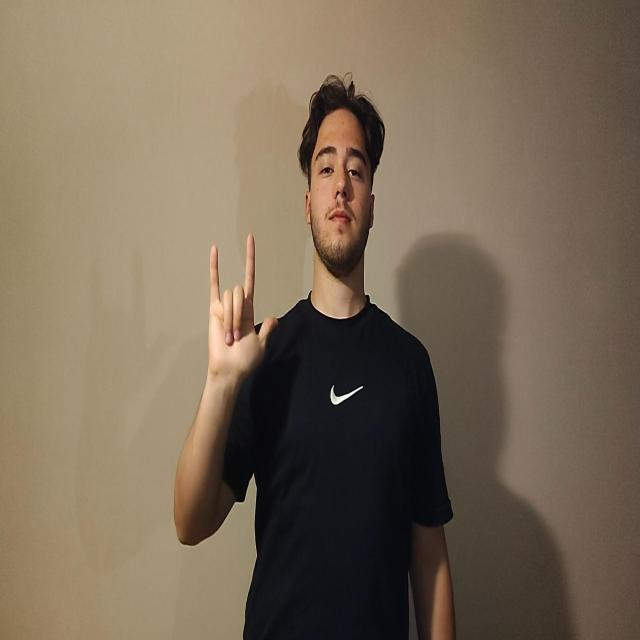iloveyou: (206, 232, 278, 383)
